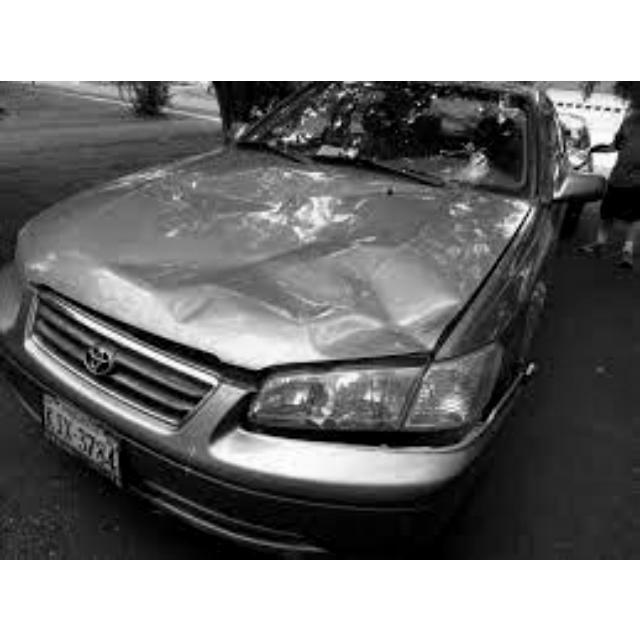bonnet-dent: (43, 155, 480, 352)
